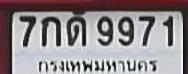1: (162, 15, 172, 45)
7: (19, 15, 35, 46), (138, 15, 154, 45)
9: (117, 15, 133, 45), (97, 15, 112, 45)
A01: (41, 16, 60, 46)
A20: (66, 16, 85, 45)
BKK: (36, 56, 159, 74)
